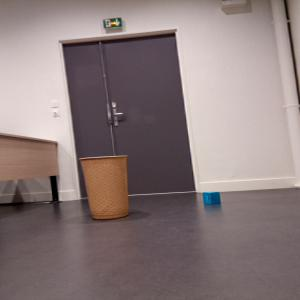medium: (79, 155, 132, 221)
small: (203, 191, 221, 206)
